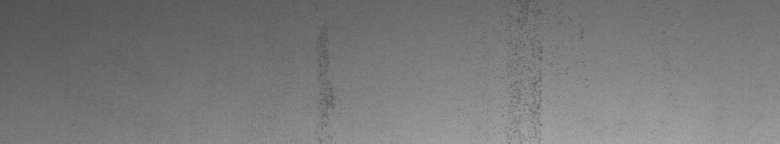ib: (499, 6, 584, 136)
